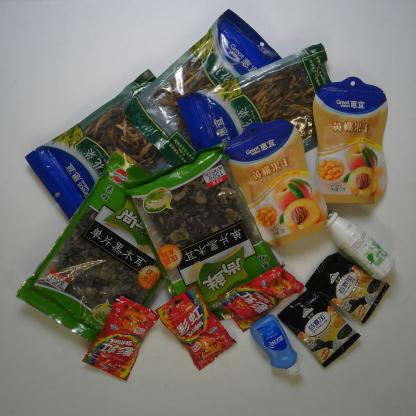Candy: (152, 285, 237, 371), (80, 296, 160, 381), (217, 264, 303, 333)
Dried Food: (15, 148, 189, 350), (125, 144, 287, 325), (124, 8, 288, 174), (22, 68, 180, 232), (175, 42, 344, 183)
Dried Fruit: (226, 119, 328, 248), (311, 76, 389, 207)
Instant Drink: (278, 286, 361, 368), (304, 251, 390, 324)
Milk: (322, 210, 396, 281)
Personal Hygiene: (250, 315, 304, 379)
